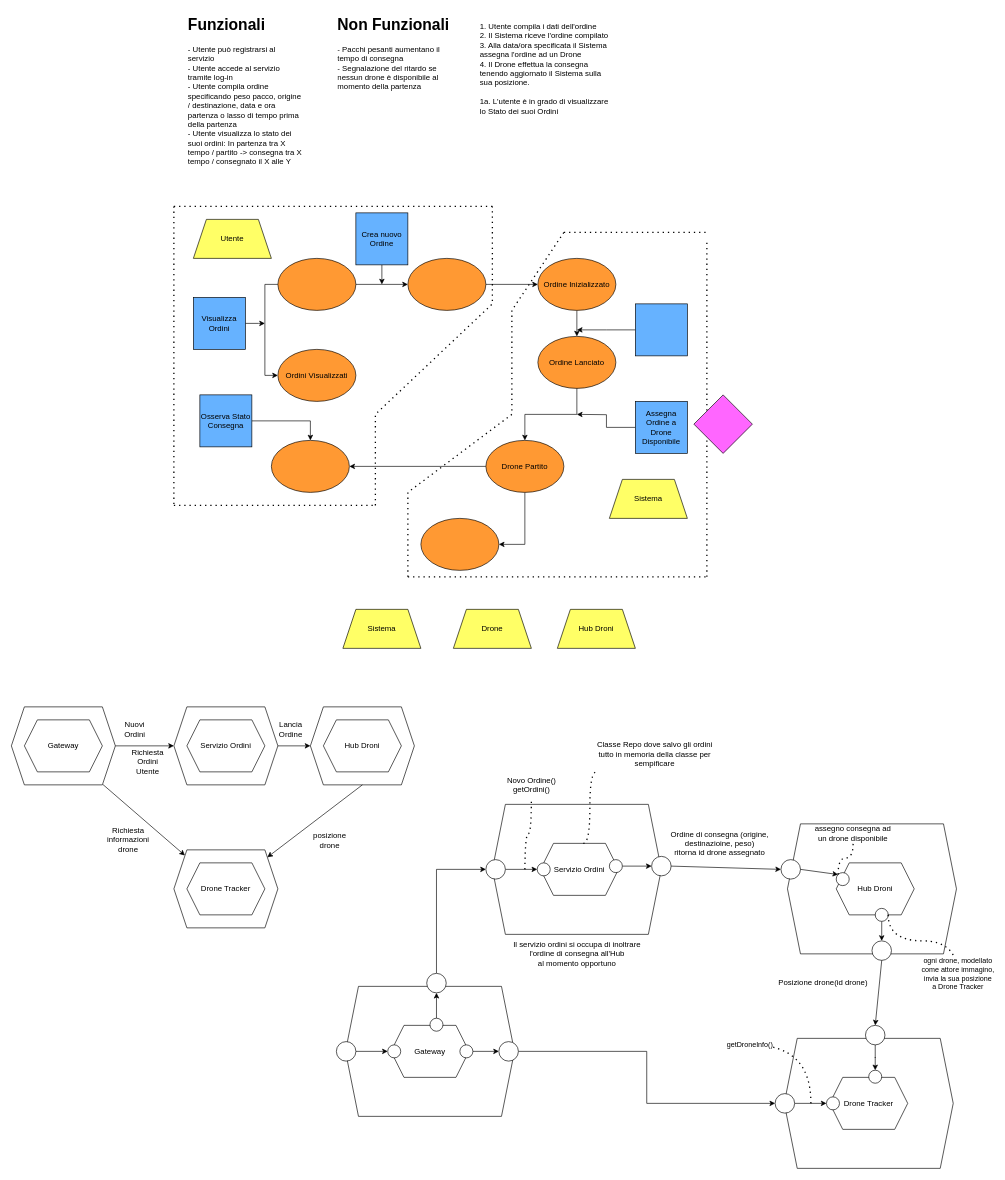
Image size: 1005x1180. Some labels were removed from this diagram. Here are the shapes that lost their labels. From the top down, the centre of each, then its label:
At pixel 316 284: "Utente Registrato".
At pixel 446 284: "Ordine Compilato".
At pixel 661 329: "Verifica Data e Ora".
At pixel 722 423: "Drone non disponibile?".
At pixel 310 466: "Drone Osservato".
At pixel 459 544: "Ordine Consegnato".
